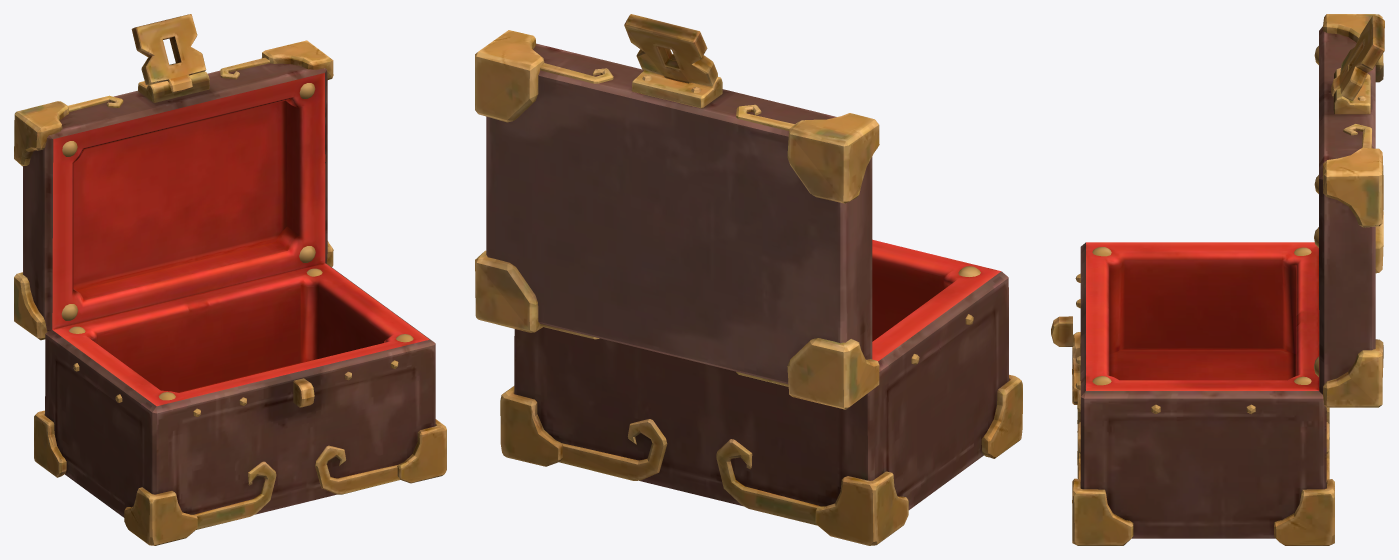
3 renders of one model, left to right at view 1: azimuth 30°, elevation 25°; view 2: azimuth 150°, elevation 25°; view 3: azimuth 270°, elevation 25°, orthographic. The views are drawn at different scales.
Parts seen in each view (by area): view 1: SM_OpenJewelers_Box1_LOD0; view 2: SM_OpenJewelers_Box1_LOD0; view 3: SM_OpenJewelers_Box1_LOD0.
Boxes of the visible parts, left/top/right/bottom form: SM_OpenJewelers_Box1_LOD0: left=14, top=14, right=446, bottom=545; SM_OpenJewelers_Box1_LOD0: left=475, top=14, right=1022, bottom=545; SM_OpenJewelers_Box1_LOD0: left=1051, top=14, right=1384, bottom=545.
Bounding box in the file's own units: 0.4623 × 0.5802 × 0.4021.
Materials: 2 (2 with a texture image).
